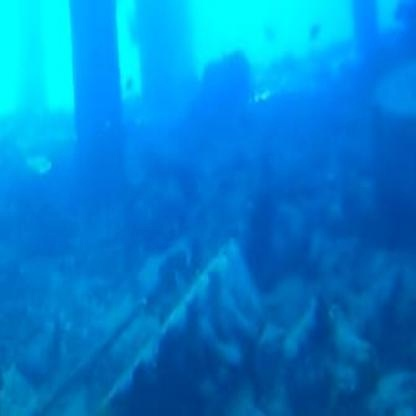tire: (73, 240, 255, 416)
